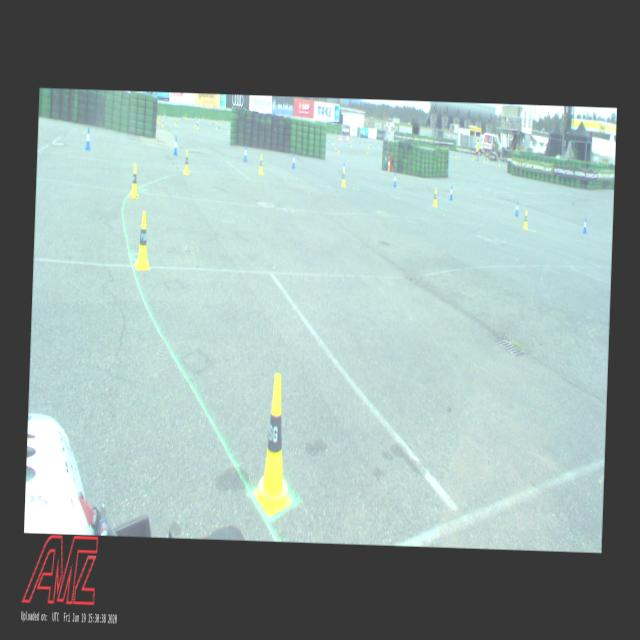blue_cone: (85, 127, 92, 150), (173, 136, 178, 155), (514, 200, 519, 217), (392, 171, 397, 187), (582, 217, 587, 233), (244, 145, 248, 162), (291, 152, 295, 168), (342, 161, 346, 177), (448, 184, 452, 200)
yellow_cone: (252, 372, 296, 518), (134, 211, 152, 270), (128, 162, 140, 198), (182, 149, 190, 174), (258, 154, 264, 174), (522, 209, 528, 229), (432, 188, 438, 206), (341, 168, 346, 186), (162, 119, 164, 127)
